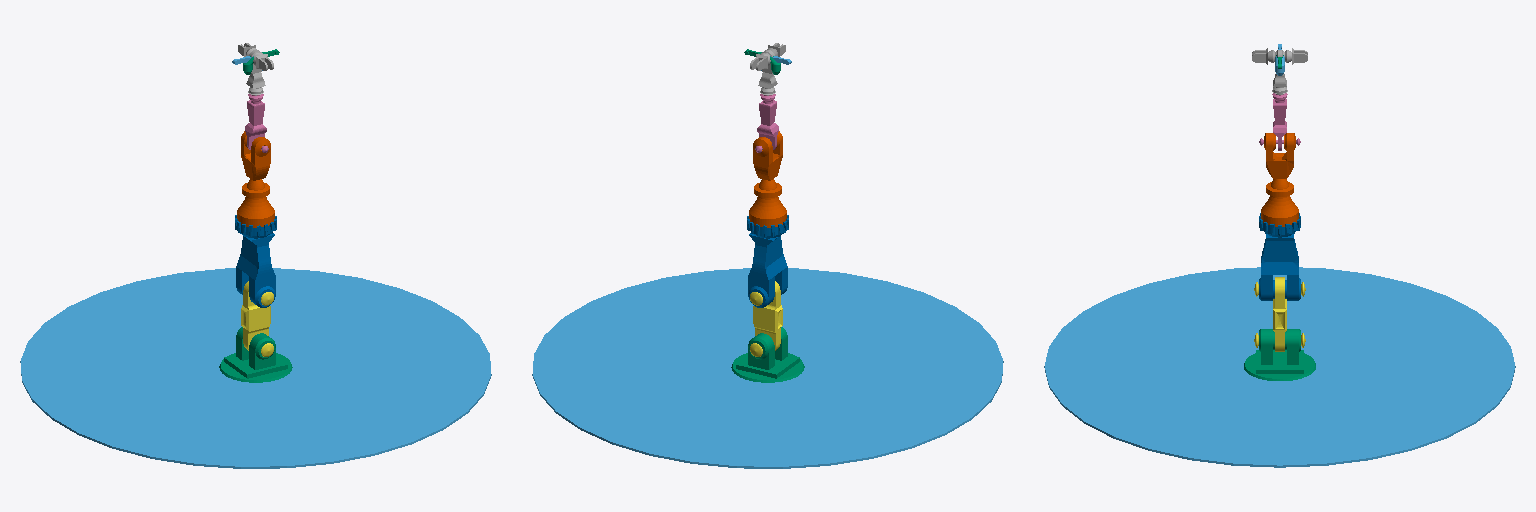
The robot description file, URDF, robot "marco":
<?xml version="1.0" ?>
<!-- =================================================================================== -->
<!-- |    This document was autogenerated by xacro from marco.xacro                    | -->
<!-- |    EDITING THIS FILE BY HAND IS NOT RECOMMENDED                                 | -->
<!-- =================================================================================== -->
<robot name="marco">
  <gazebo>
    <plugin filename="libgazebo_ros_control.so" name="gazebo_ros_control">
      <robotNamespace>/marco</robotNamespace>
    </plugin>
  </gazebo>
  <gazebo reference="">
    <self_collide>1</self_collide>
  </gazebo>
  <link name="world"/>
  <link name="link0">
    <visual>
      <geometry>
        <cylinder length="0.01" radius="1.0"/>
      </geometry>
      <origin rpy="0 0 0" xyz="0 0 0.005"/>
    </visual>
    <inertial>
      <mass value="1.0"/>
      <inertia ixx="1.0" ixy="0.0" ixz="0.0" iyy="1.0" iyz="0.0" izz="1.0"/>
    </inertial>
  </link>
  <link name="link1">
    <visual>
      <geometry>
        <mesh filename="package://marco_description/models/marco/meshes/link1.stl" scale="0.1 0.1 0.1"/>
      </geometry>
      <origin rpy="0 0 1.570796326794895" xyz="0 0 0"/>
    </visual>
    <collision>
      <geometry>
        <cylinder length="0.03" radius="0.05"/>
      </geometry>
      <origin rpy="0 0 0" xyz="0 0 0.065"/>
    </collision>
    <inertial>
      <origin rpy="0 0 0" xyz="0 0 0"/>
      <mass value="0.065"/>
      <inertia ixx="9.154166666666668e-05" ixy="0" ixz="0" iyy="0" iyz="0" izz="0.0003661666666666667"/>
    </inertial>
  </link>
  <link name="link2">
    <visual>
      <geometry>
        <mesh filename="package://marco_description/models/marco/meshes/link2.stl" scale="0.1 0.1 0.1"/>
      </geometry>
      <origin rpy="0 0 1.570796326794895" xyz="0 0 0"/>
    </visual>
    <collision>
      <geometry>
        <cylinder length="0.13999999999999999" radius="0.05"/>
      </geometry>
      <origin rpy="0 0 0" xyz="0 0 0.12"/>
    </collision>
    <inertial>
      <origin rpy="0 0 0" xyz="0 0 0"/>
      <mass value="0.12"/>
      <inertia ixx="0.000576" ixy="0" ixz="0" iyy="0" iyz="0" izz="0.002304"/>
    </inertial>
  </link>
  <link name="link3">
    <visual>
      <geometry>
        <mesh filename="package://marco_description/models/marco/meshes/link3.stl" scale="0.1 0.1 0.1"/>
      </geometry>
      <origin rpy="0 0 1.570796326794895" xyz="0 0 0"/>
    </visual>
    <collision>
      <geometry>
        <cylinder length="0.23" radius="0.05"/>
      </geometry>
      <origin rpy="0 0 0" xyz="0 0 0.165"/>
    </collision>
    <inertial>
      <origin rpy="0 0 0" xyz="0 0 0"/>
      <mass value="0.165"/>
      <inertia ixx="0.0014973750000000002" ixy="0" ixz="0" iyy="0" iyz="0" izz="0.005989500000000001"/>
    </inertial>
  </link>
  <link name="link4">
    <visual>
      <geometry>
        <mesh filename="package://marco_description/models/marco/meshes/link4.stl" scale="0.1 0.1 0.1"/>
      </geometry>
      <origin rpy="0 0 1.570796326794895" xyz="0 0 0"/>
    </visual>
    <collision>
      <geometry>
        <cylinder length="0.26" radius="0.05"/>
      </geometry>
      <origin rpy="0 0 0" xyz="0 0 0.18"/>
    </collision>
    <inertial>
      <origin rpy="0 0 0" xyz="0 0 0"/>
      <mass value="0.18"/>
      <inertia ixx="0.0019439999999999998" ixy="0" ixz="0" iyy="0" iyz="0" izz="0.007775999999999999"/>
    </inertial>
  </link>
  <link name="link5">
    <visual>
      <geometry>
        <mesh filename="package://marco_description/models/marco/meshes/link5.stl" scale="0.1 0.1 0.1"/>
      </geometry>
      <origin rpy="0 0 1.570796326794895" xyz="0 0 0"/>
    </visual>
    <collision>
      <geometry>
        <cylinder length="0.13" radius="0.05"/>
      </geometry>
      <origin rpy="0 0 0" xyz="0 0 0.115"/>
    </collision>
    <inertial>
      <origin rpy="0 0 0" xyz="0 0 0"/>
      <mass value="0.115"/>
      <inertia ixx="0.0005069583333333333" ixy="0" ixz="0" iyy="0" iyz="0" izz="0.0020278333333333333"/>
    </inertial>
  </link>
  <link name="link6">
    <visual>
      <geometry>
        <mesh filename="package://marco_description/models/marco/meshes/link6.stl" scale="0.1 0.1 0.1"/>
      </geometry>
      <origin rpy="0 0 1.570796326794895" xyz="0 0 0"/>
    </visual>
    <collision>
      <geometry>
        <cylinder length="0.21" radius="0.05"/>
      </geometry>
      <origin rpy="0 0 0" xyz="0 0 0.155"/>
    </collision>
    <inertial>
      <origin rpy="0 0 0" xyz="0 0 0"/>
      <mass value="0.155"/>
      <inertia ixx="0.004965166666666667" ixy="0" ixz="0" iyy="0" iyz="0" izz="0.004965166666666667"/>
    </inertial>
  </link>
  <link name="gripper_tip"/>
  <link name="gripper_a">
    <visual>
      <geometry>
        <mesh filename="package://marco_description/models/marco/meshes/gripper_a.stl" scale="0.1 0.1 0.1"/>
      </geometry>
      <origin rpy="0 1.570796326794895 0" xyz="0 0 0"/>
    </visual>
    <inertial>
      <mass value="1.0"/>
      <inertia ixx="1.0" ixy="0.0" ixz="0.0" iyy="1.0" iyz="0.0" izz="1.0"/>
    </inertial>
  </link>
  <link name="gripper_b">
    <visual>
      <geometry>
        <mesh filename="package://marco_description/models/marco/meshes/gripper_b.stl" scale="0.1 0.1 0.1"/>
      </geometry>
      <origin rpy="0 -1.570796326794895 0" xyz="0 0 0"/>
    </visual>
    <inertial>
      <mass value="1.0"/>
      <inertia ixx="1.0" ixy="0.0" ixz="0.0" iyy="1.0" iyz="0.0" izz="1.0"/>
    </inertial>
  </link>
  <joint name="fixed" type="fixed">
    <origin rpy="0 0 0" xyz="0 0 0"/>
    <parent link="world"/>
    <child link="link0"/>
  </joint>
  <joint name="joint1" type="continuous">
    <origin rpy="0 0 0" xyz="0 0 0"/>
    <axis xyz="0 0 1"/>
    <dynamics damping="0.5"/>
    <parent link="link0"/>
    <child link="link1"/>
  </joint>
  <joint name="joint2" type="continuous">
    <origin rpy="0 0 0" xyz="0 0 0.13"/>
    <axis xyz="0 -1 0"/>
    <dynamics damping="0.5"/>
    <parent link="link1"/>
    <child link="link2"/>
  </joint>
  <joint name="joint3" type="continuous">
    <origin rpy="0 0 0" xyz="0 0 0.24"/>
    <axis xyz="0 -1 0"/>
    <dynamics damping="0.5"/>
    <parent link="link2"/>
    <child link="link3"/>
  </joint>
  <joint name="joint4" type="continuous">
    <origin rpy="0 0 0" xyz="0 0 0.33"/>
    <axis xyz="0 0 1"/>
    <dynamics damping="0.5"/>
    <parent link="link3"/>
    <child link="link4"/>
  </joint>
  <joint name="joint5" type="continuous">
    <origin rpy="0 0 0" xyz="0 0 0.36"/>
    <axis xyz="0 -1 0"/>
    <dynamics damping="0.5"/>
    <parent link="link4"/>
    <child link="link5"/>
  </joint>
  <joint name="joint6" type="continuous">
    <origin rpy="0 0 0" xyz="0 0 0.23"/>
    <axis xyz="0 0 1"/>
    <dynamics damping="0.5"/>
    <parent link="link5"/>
    <child link="link6"/>
  </joint>
  <joint name="gripper_fixed" type="fixed">
    <origin rpy="0 0 0" xyz="0 0 0.31"/>
    <parent link="link6"/>
    <child link="gripper_tip"/>
  </joint>
  <joint name="joint_gripper_a" type="fixed">
    <origin rpy="0 0 0" xyz="-0.1 0 0.17"/>
    <parent link="link6"/>
    <child link="gripper_a"/>
  </joint>
  <joint name="joint_gripper_b" type="fixed">
    <origin rpy="0 0 0" xyz="0.1 0 0.17"/>
    <parent link="link6"/>
    <child link="gripper_b"/>
  </joint>
  <transmission name="tran1">
    <type>transmission_interface/SimpleTransmission</type>
    <joint name="joint1">
      <hardwareInterface>hardware_interface/EffortJointInterface</hardwareInterface>
    </joint>
    <actuator name="motor1">
      <hardwareInterface>hardware_interface/EffortJointInterface</hardwareInterface>
      <mechanicalReduction>1</mechanicalReduction>
    </actuator>
  </transmission>
  <transmission name="tran2">
    <type>transmission_interface/SimpleTransmission</type>
    <joint name="joint2">
      <hardwareInterface>hardware_interface/EffortJointInterface</hardwareInterface>
    </joint>
    <actuator name="motor2">
      <hardwareInterface>hardware_interface/EffortJointInterface</hardwareInterface>
      <mechanicalReduction>1</mechanicalReduction>
    </actuator>
  </transmission>
  <transmission name="tran3">
    <type>transmission_interface/SimpleTransmission</type>
    <joint name="joint3">
      <hardwareInterface>hardware_interface/EffortJointInterface</hardwareInterface>
    </joint>
    <actuator name="motor3">
      <hardwareInterface>hardware_interface/EffortJointInterface</hardwareInterface>
      <mechanicalReduction>1</mechanicalReduction>
    </actuator>
  </transmission>
  <transmission name="tran4">
    <type>transmission_interface/SimpleTransmission</type>
    <joint name="joint4">
      <hardwareInterface>hardware_interface/EffortJointInterface</hardwareInterface>
    </joint>
    <actuator name="motor4">
      <hardwareInterface>hardware_interface/EffortJointInterface</hardwareInterface>
      <mechanicalReduction>1</mechanicalReduction>
    </actuator>
  </transmission>
  <transmission name="tran5">
    <type>transmission_interface/SimpleTransmission</type>
    <joint name="joint5">
      <hardwareInterface>hardware_interface/EffortJointInterface</hardwareInterface>
    </joint>
    <actuator name="motor5">
      <hardwareInterface>hardware_interface/EffortJointInterface</hardwareInterface>
      <mechanicalReduction>1</mechanicalReduction>
    </actuator>
  </transmission>
  <transmission name="tran6">
    <type>transmission_interface/SimpleTransmission</type>
    <joint name="joint6">
      <hardwareInterface>hardware_interface/EffortJointInterface</hardwareInterface>
    </joint>
    <actuator name="motor6">
      <hardwareInterface>hardware_interface/EffortJointInterface</hardwareInterface>
      <mechanicalReduction>1</mechanicalReduction>
    </actuator>
  </transmission>
</robot>

--- Facts derived from the render (not from the file) ---
Views: 3 orthographic renders of the robot side by side, from view 1: azimuth 30°, elevation 25°; view 2: azimuth 150°, elevation 25°; view 3: azimuth 270°, elevation 25°.
Model marco with 11 links and 10 joints (6 continuous, 4 fixed), rooted at world, posed every joint at zero.
Links seen in each view (by area): view 1: link0, link3, link4, link1, link2, link6, link5; view 2: link0, link3, link4, link1, link2, link6, link5; view 3: link0, link3, link1, link4, link2, link6, link5.
Boxes of the visible links, bbox=[...] form: link0: bbox=[20, 268, 491, 468]; link3: bbox=[235, 215, 276, 307]; link4: bbox=[237, 131, 274, 227]; link1: bbox=[219, 327, 292, 382]; link2: bbox=[241, 281, 273, 356]; link6: bbox=[238, 43, 273, 95]; link5: bbox=[245, 94, 268, 152]; link0: bbox=[532, 268, 1003, 468]; link3: bbox=[747, 215, 788, 307]; link4: bbox=[749, 131, 786, 227]; link1: bbox=[731, 327, 804, 382]; link2: bbox=[750, 281, 782, 356]; link6: bbox=[750, 43, 785, 95]; link5: bbox=[755, 94, 778, 152]; link0: bbox=[1044, 267, 1515, 467]; link3: bbox=[1259, 213, 1300, 300]; link1: bbox=[1244, 329, 1315, 380]; link4: bbox=[1261, 133, 1298, 226]; link2: bbox=[1254, 277, 1305, 351]; link6: bbox=[1252, 48, 1307, 94]; link5: bbox=[1259, 93, 1300, 150].
Size in the robot's own frame: 2 by 2 by 1.49 metres.
8 mesh visuals loaded from 8 distinct referenced files (8 binary STL).
